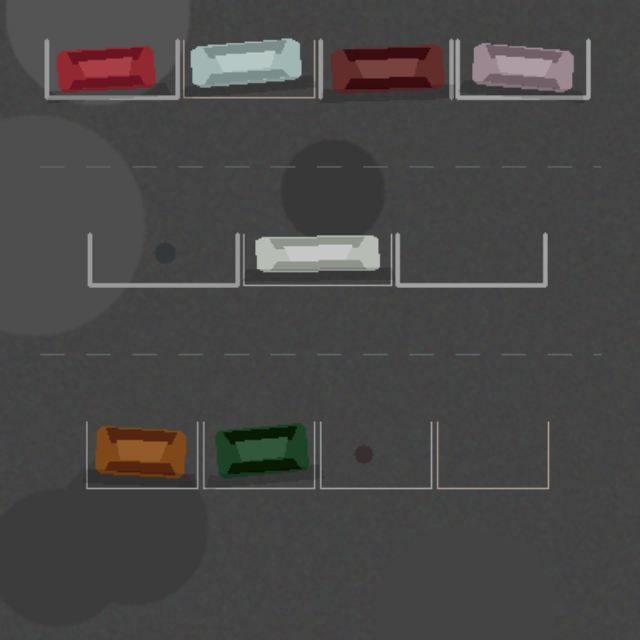space-empty: (89, 234, 237, 285), (397, 234, 545, 285), (320, 422, 431, 488), (437, 422, 548, 488)
space-occupied: (243, 234, 391, 285), (46, 40, 177, 97), (183, 40, 314, 97), (320, 40, 451, 97), (457, 40, 588, 97), (86, 422, 197, 488), (203, 422, 314, 488)
